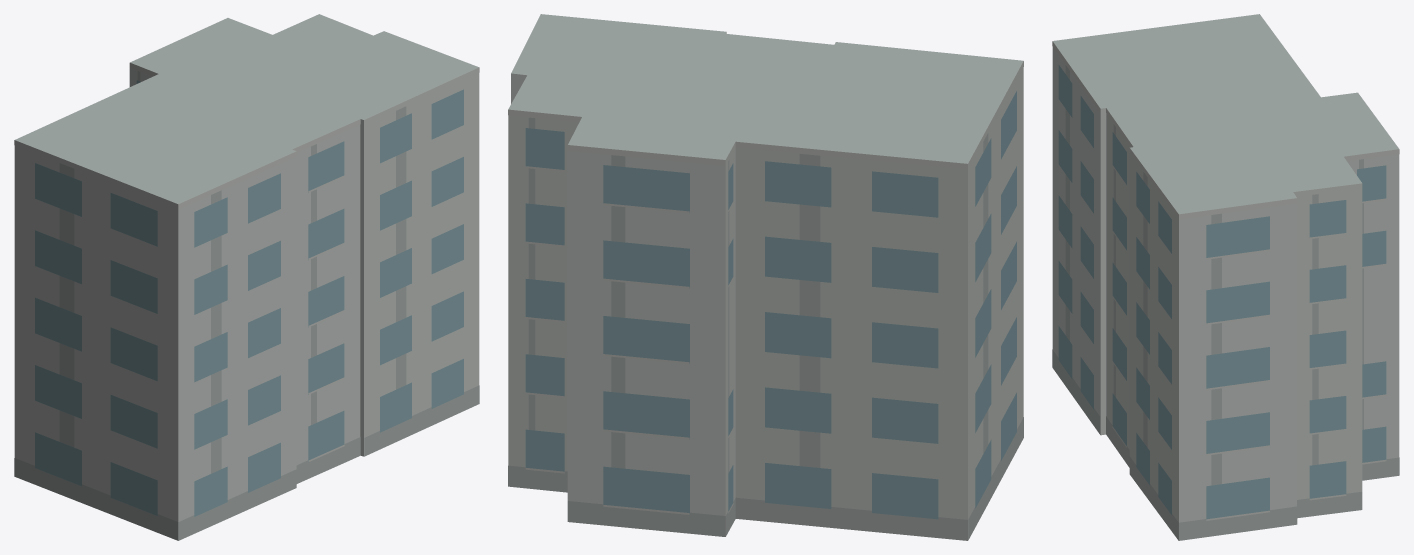
File: survey-upis-32570336.glb
3 renders of one model, left to right at view 1: azimuth 30°, elevation 25°; view 2: azimuth 150°, elevation 25°; view 3: azimuth 270°, elevation 25°, orthographic. The views are drawn at different scales.
Parts seen in each view (by area): view 1: survey-upis-32570336.tmp; view 2: survey-upis-32570336.tmp; view 3: survey-upis-32570336.tmp.
Part boxes in pixels (box(x1,y1,x2,y2)): survey-upis-32570336.tmp: box(14, 14, 479, 540); survey-upis-32570336.tmp: box(508, 14, 1023, 540); survey-upis-32570336.tmp: box(1052, 14, 1399, 540).
Bounding box in the file's own units: 20.27 × 15.4 × 14.84.
